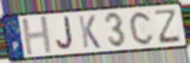3: (104, 11, 128, 50)
C: (128, 10, 156, 47)
H: (20, 15, 54, 57)
J: (55, 15, 75, 52)
K: (77, 14, 102, 50)
Z: (154, 8, 182, 45)
